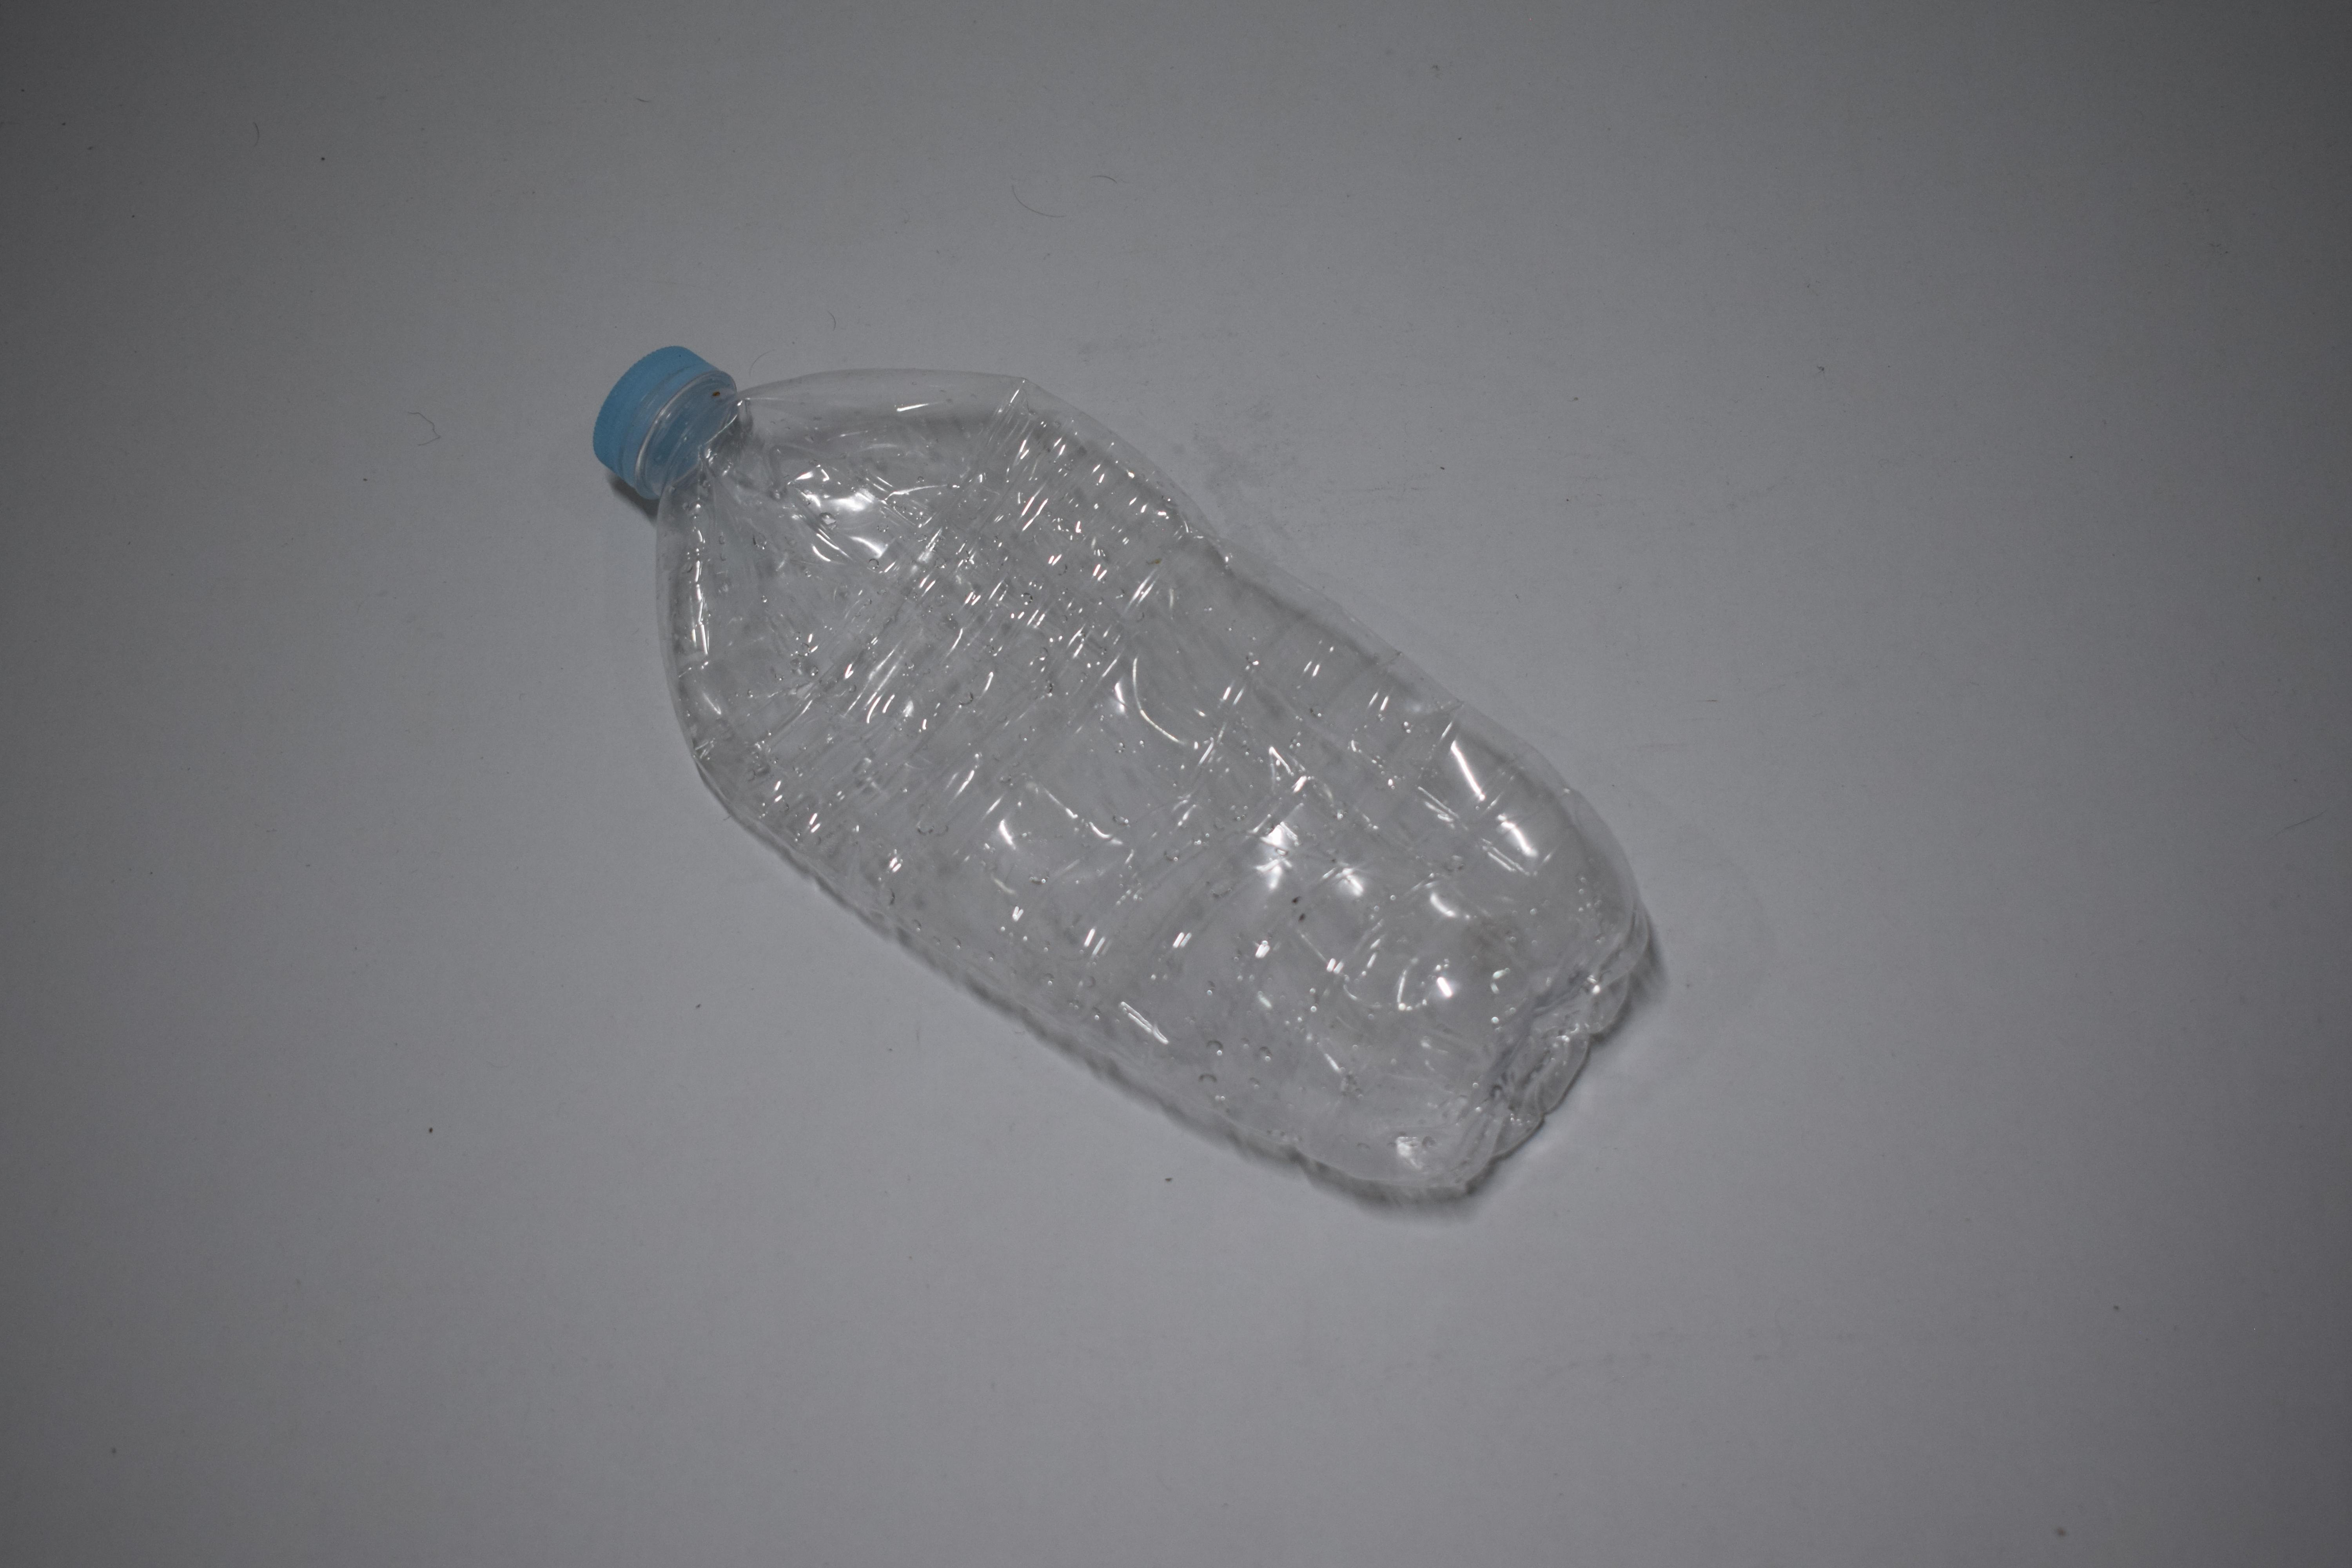bottle: (651, 730, 1612, 826)
